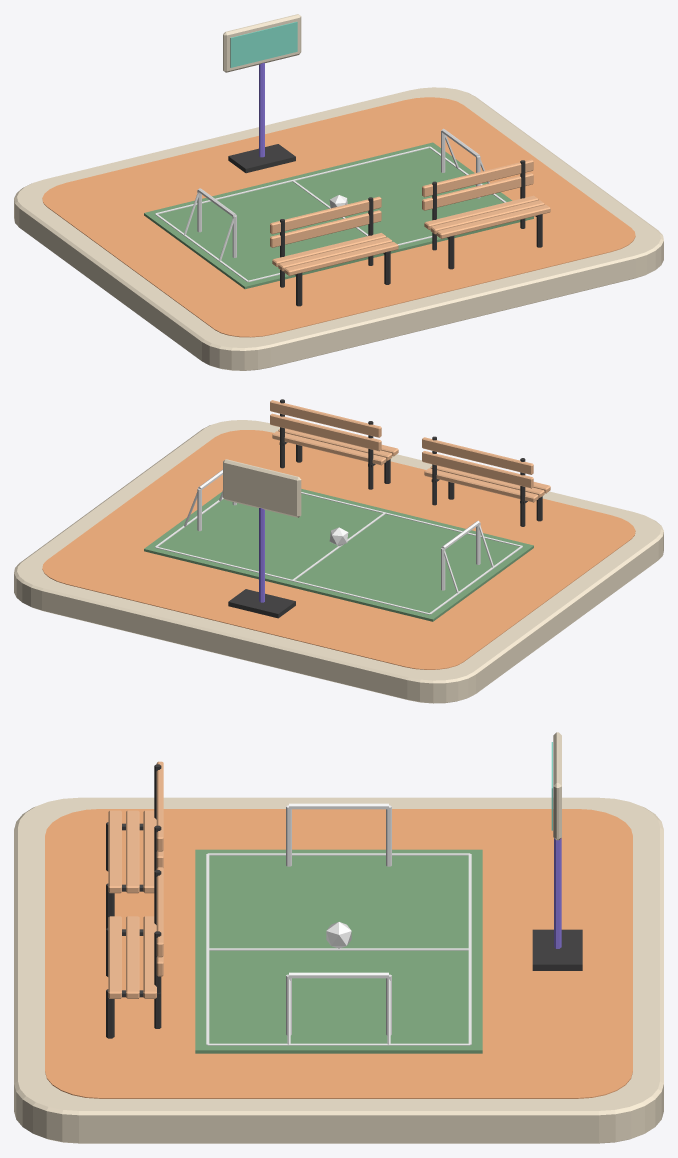
Rendered from room.fbx.
The picture shows the model from 3 angles, top to bottom: view 1: azimuth 30°, elevation 25°; view 2: azimuth 150°, elevation 25°; view 3: azimuth 270°, elevation 25°; orthographic projection. The views are drawn at different scales.
Parts seen in each view (by area): view 1: COM-02 Floor Surface, COM-01 Rounded Base Direct, Court surface, Inset, Sign panel, Back slat, Back slat.001, Back slat.002, Back slat.003, Foot, Seat slat, Seat slat.003 (+6 smaller); view 2: COM-02 Floor Surface, COM-01 Rounded Base Direct, Court surface, Sign panel, Back slat.002, Back slat.003, Back slat.001, Back slat, Foot, Seat slat.002, Seat slat.005, Sideline.001 (+4 smaller); view 3: COM-02 Floor Surface, Court surface, COM-01 Rounded Base Direct, Foot, Seat slat, Seat slat.001, Seat slat.003, Seat slat.004, Seat slat.005, Seat slat.002, Sign panel, Stand (+9 smaller).
Part boxes in pixels (x1,y1,x2,y2): COM-02 Floor Surface: [42, 97, 635, 337]; COM-01 Rounded Base Direct: [14, 87, 663, 370]; Court surface: [144, 142, 533, 289]; Inset: [230, 21, 297, 67]; Sign panel: [223, 14, 301, 72]; Back slat: [270, 210, 381, 247]; Back slat.001: [270, 196, 381, 234]; Back slat.002: [422, 173, 533, 210]; Back slat.003: [422, 159, 533, 197]; Foot: [228, 144, 295, 173]; Seat slat: [284, 242, 398, 275]; Seat slat.003: [436, 204, 550, 238]; COM-02 Floor Surface: [42, 430, 635, 669]; COM-01 Rounded Base Direct: [14, 420, 663, 703]; Court surface: [144, 489, 533, 621]; Sign panel: [223, 459, 301, 517]; Back slat.002: [270, 413, 381, 451]; Back slat.003: [270, 400, 381, 437]; Back slat.001: [422, 437, 533, 474]; Back slat: [422, 451, 533, 488]; Foot: [228, 589, 295, 618]; Seat slat.002: [424, 468, 538, 502]; Seat slat.005: [272, 431, 386, 465]; Sideline.001: [155, 546, 429, 614]; COM-02 Floor Surface: [45, 809, 632, 1098]; Court surface: [195, 849, 482, 1053]; COM-01 Rounded Base Direct: [14, 797, 663, 1143]; Foot: [532, 929, 582, 970]; Seat slat: [108, 810, 121, 893]; Seat slat.001: [126, 810, 139, 893]; Seat slat.003: [108, 916, 121, 998]; Seat slat.004: [126, 916, 139, 998]; Seat slat.005: [143, 916, 156, 998]; Seat slat.002: [143, 810, 156, 893]; Sign panel: [553, 732, 561, 840]; Stand: [554, 838, 561, 948].
Bounding box in the file's own units: 600 × 202 × 520.
